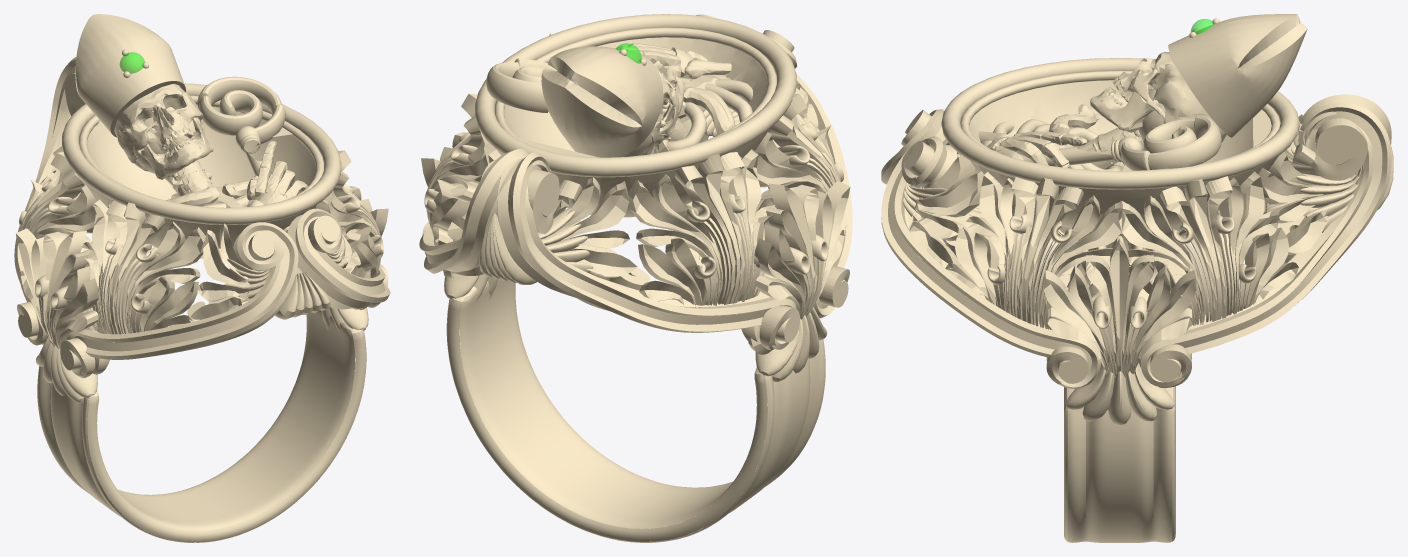
Rendered from saint.glb.
3 views of the same model, side by side, from view 1: azimuth 30°, elevation 25°; view 2: azimuth 150°, elevation 25°; view 3: azimuth 270°, elevation 25° (orthographic). The views are drawn at different scales.
Parts seen in each view (by area): view 1: PhotonWorkshop Export stl (×38); view 2: PhotonWorkshop Export stl (×43); view 3: PhotonWorkshop Export stl (×36).
Part boxes in pixels (left/top/right/bottom): PhotonWorkshop Export stl (×38): left=14, top=14, right=389, bottom=542; PhotonWorkshop Export stl (×43): left=426, top=14, right=852, bottom=542; PhotonWorkshop Export stl (×36): left=881, top=14, right=1391, bottom=542.
Size of what is drawn, in the model's own units: 0.0211 by 0.0292 by 0.0272.
